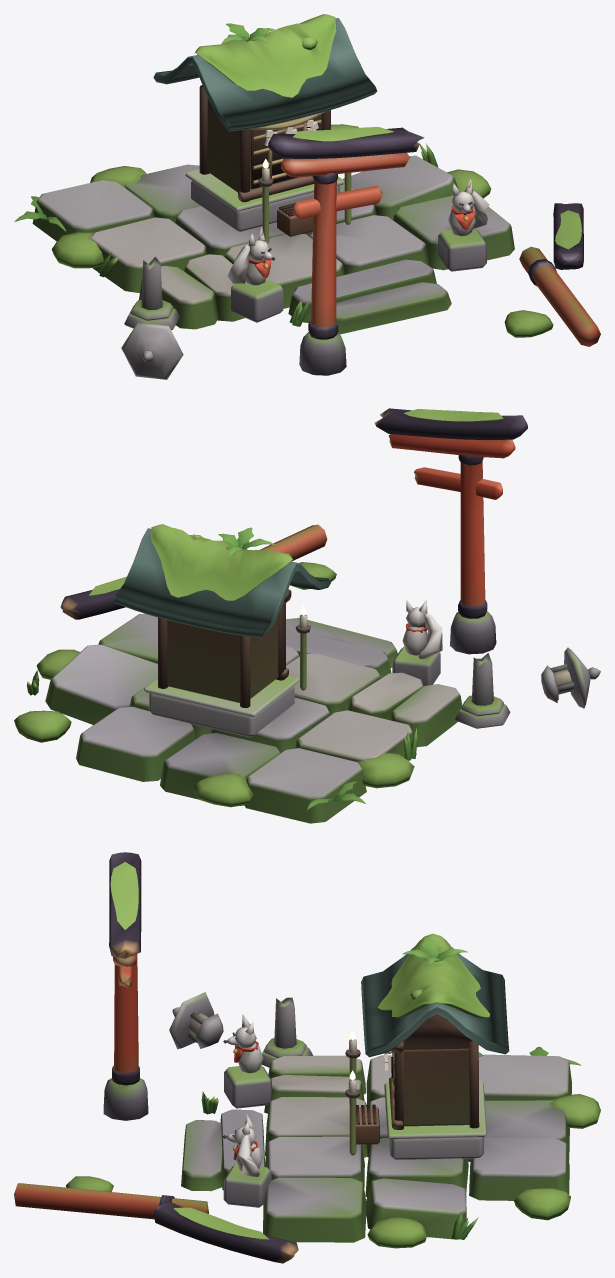
The model's file is rg-bamboo-ruinedShrine.glb.
3 views of the same model, one above another, from view 1: azimuth 30°, elevation 25°; view 2: azimuth 150°, elevation 25°; view 3: azimuth 270°, elevation 25° (orthographic).
Visible parts, largest first — view 1: stone, body, leaf; view 2: stone, body, leaf; view 3: stone, body, leaf.
Part boxes in pixels (bbox=[...]): stone: bbox=[32, 14, 581, 379]; body: bbox=[153, 18, 600, 346]; leaf: bbox=[14, 23, 438, 326]; stone: bbox=[14, 409, 600, 823]; body: bbox=[60, 408, 572, 707]; leaf: bbox=[27, 527, 417, 809]; stone: bbox=[66, 862, 600, 1248]; body: bbox=[14, 852, 509, 1263]; leaf: bbox=[201, 937, 581, 1239].
Bounding box in the file's own units: 6.05 × 2.91 × 6.25.
